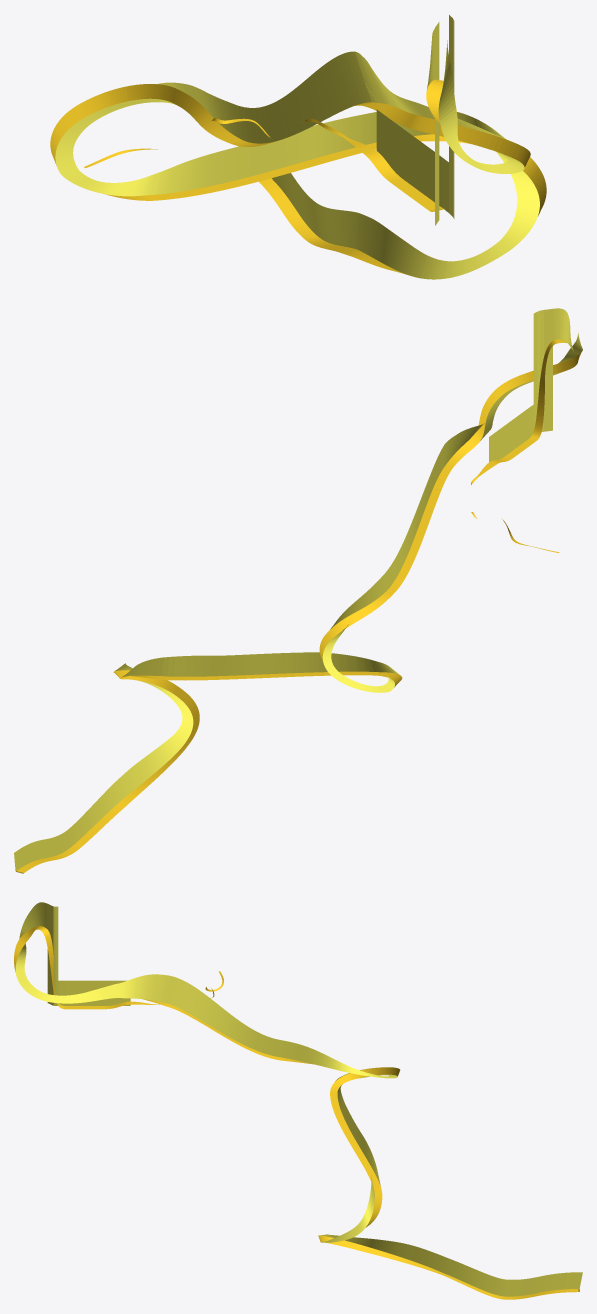
File: SkyRoad04.gltf
The picture shows the model from 3 angles, top to bottom: view 1: azimuth 30°, elevation 25°; view 2: azimuth 150°, elevation 25°; view 3: azimuth 270°, elevation 25°; orthographic projection. The views are drawn at different scales.
Parts seen in each view (by area): view 1: SkyRoadWall04, SkyRoad04; view 2: SkyRoadWall04, SkyRoad04; view 3: SkyRoadWall04, SkyRoad04.
Part boxes in pixels (left/top/right/bottom): SkyRoadWall04: left=55, top=15, right=539, bottom=279; SkyRoad04: left=50, top=79, right=546, bottom=274; SkyRoadWall04: left=14, top=308, right=582, bottom=871; SkyRoad04: left=16, top=339, right=581, bottom=873; SkyRoadWall04: left=15, top=902, right=582, bottom=1296; SkyRoad04: left=14, top=926, right=579, bottom=1299.
Bounding box in the file's own units: 182 × 185 × 306.
